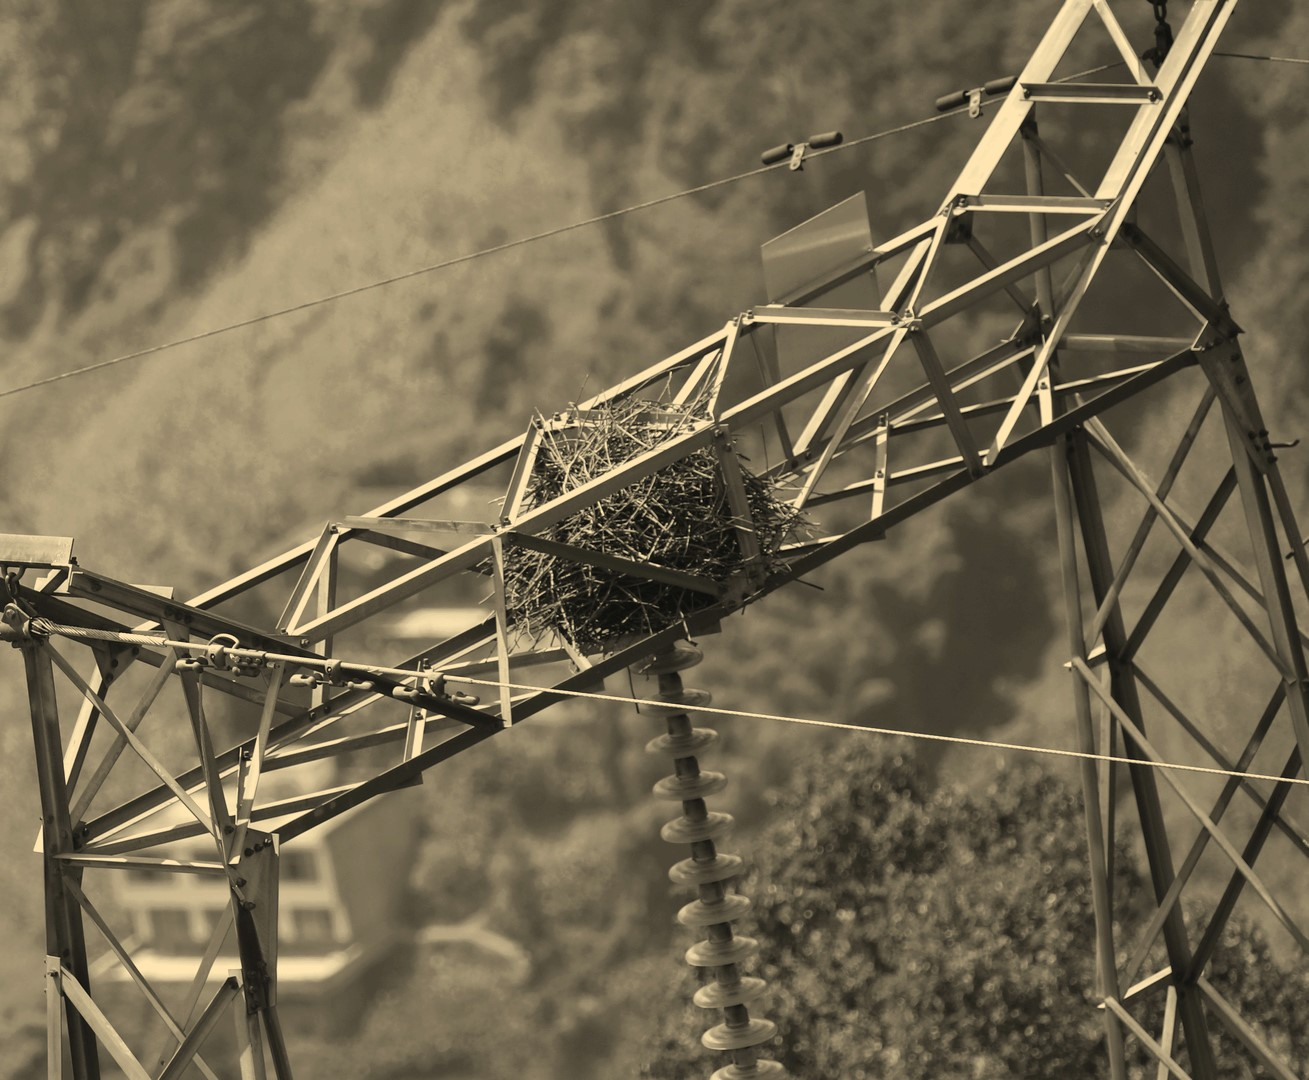niaowo: (479, 398, 805, 675)
